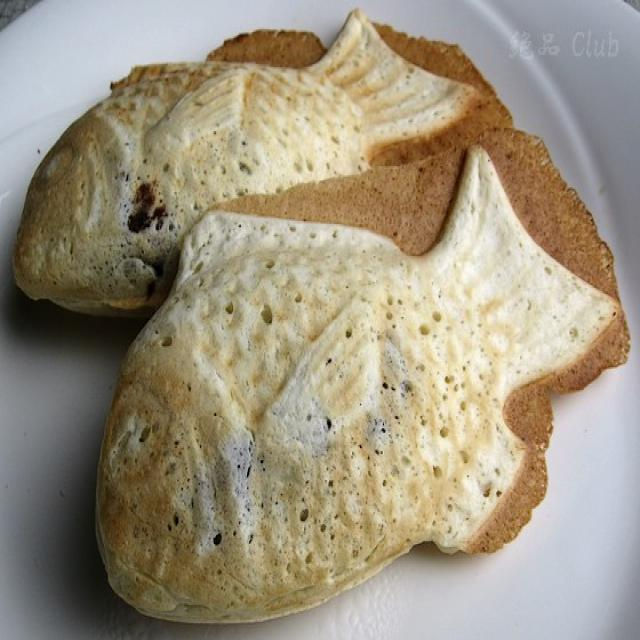熟制海鲜: (0, 4, 624, 630)
